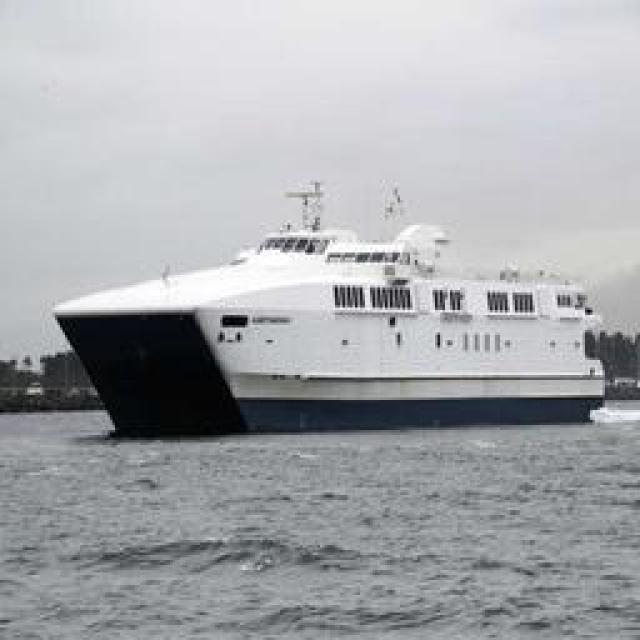CIV_Ship: (52, 200, 612, 432)
